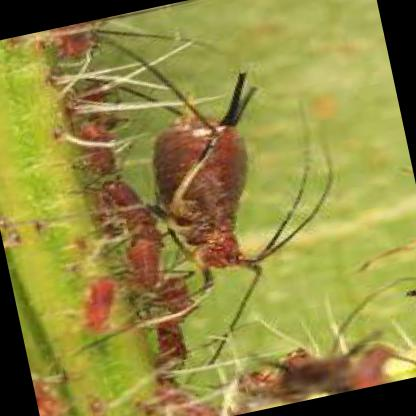uroleucon compositae: (72, 68, 263, 268)
